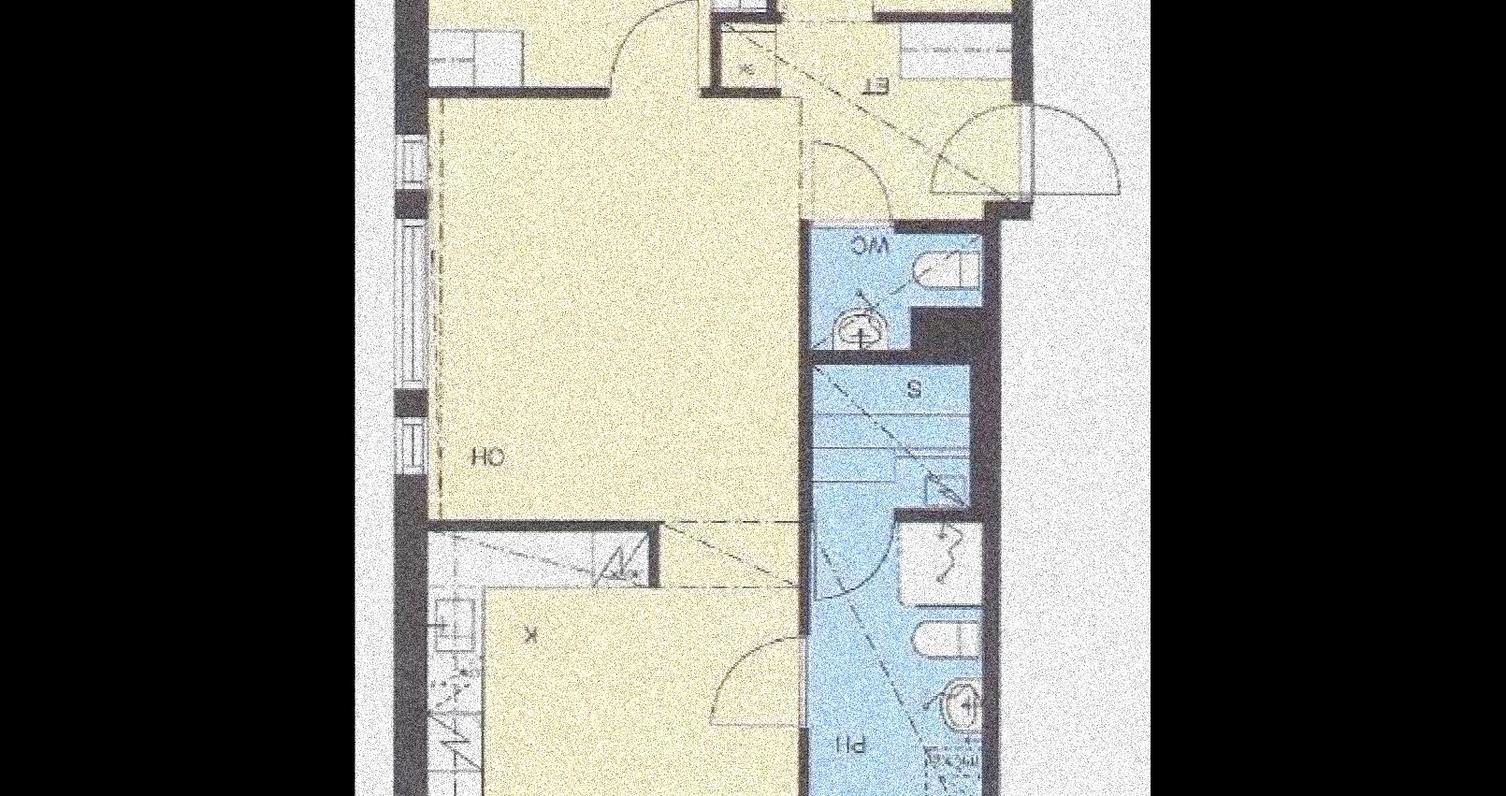door: (927, 101, 1122, 196), (609, 0, 702, 99), (707, 638, 810, 727), (808, 132, 893, 238), (811, 514, 893, 602), (778, 0, 894, 31)
window: (394, 219, 422, 391), (393, 133, 422, 191), (393, 417, 423, 468)
zone: (420, 96, 797, 796), (804, 230, 983, 796), (710, 14, 1019, 232), (426, 0, 708, 84)
